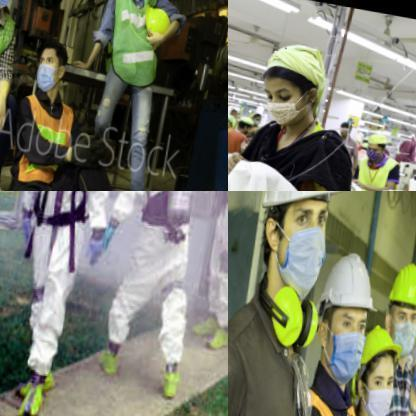Boots: (323, 255, 381, 308)
Ear-protection: (234, 50, 356, 192)
Glass: (16, 92, 76, 180), (108, 0, 148, 88)
